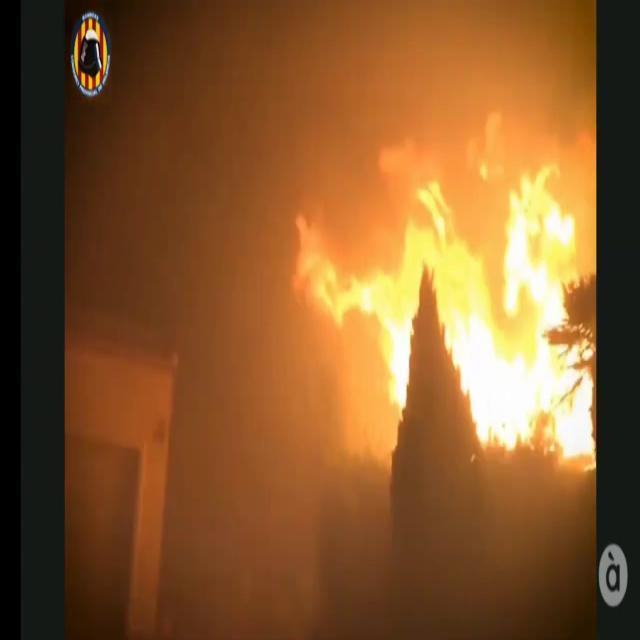Fire: (297, 137, 596, 466)
